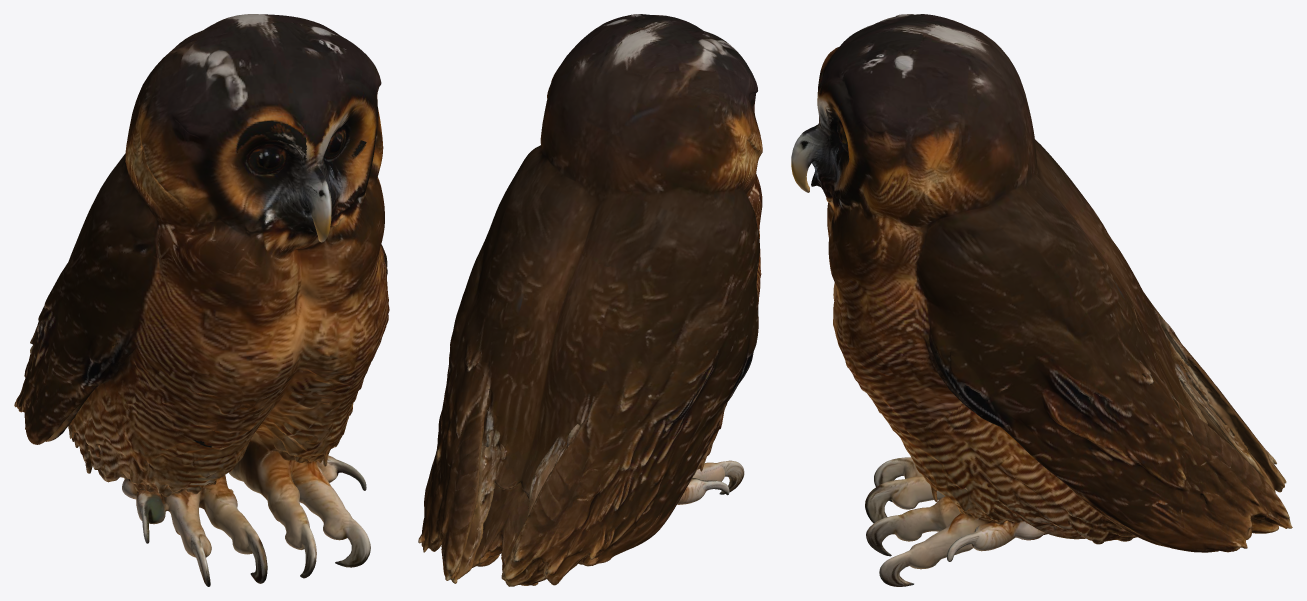
File: 褐林鴞.glb
3 views of the same model, side by side, from view 1: azimuth 30°, elevation 25°; view 2: azimuth 150°, elevation 25°; view 3: azimuth 270°, elevation 25° (orthographic). The views are drawn at different scales.
Visible parts, largest first — view 1: tripo_node_d2271fd4-5a04-47fc-be84-9fcda614f0f3; view 2: tripo_node_d2271fd4-5a04-47fc-be84-9fcda614f0f3; view 3: tripo_node_d2271fd4-5a04-47fc-be84-9fcda614f0f3.
Boxes of the visible parts, <box> form: tripo_node_d2271fd4-5a04-47fc-be84-9fcda614f0f3: <box>14,14,389,586</box>; tripo_node_d2271fd4-5a04-47fc-be84-9fcda614f0f3: <box>418,14,762,586</box>; tripo_node_d2271fd4-5a04-47fc-be84-9fcda614f0f3: <box>791,14,1292,586</box>.
Bounding box in the file's own units: 0.5604 × 1 × 0.867.
Materials: 1 (1 with a texture image).
